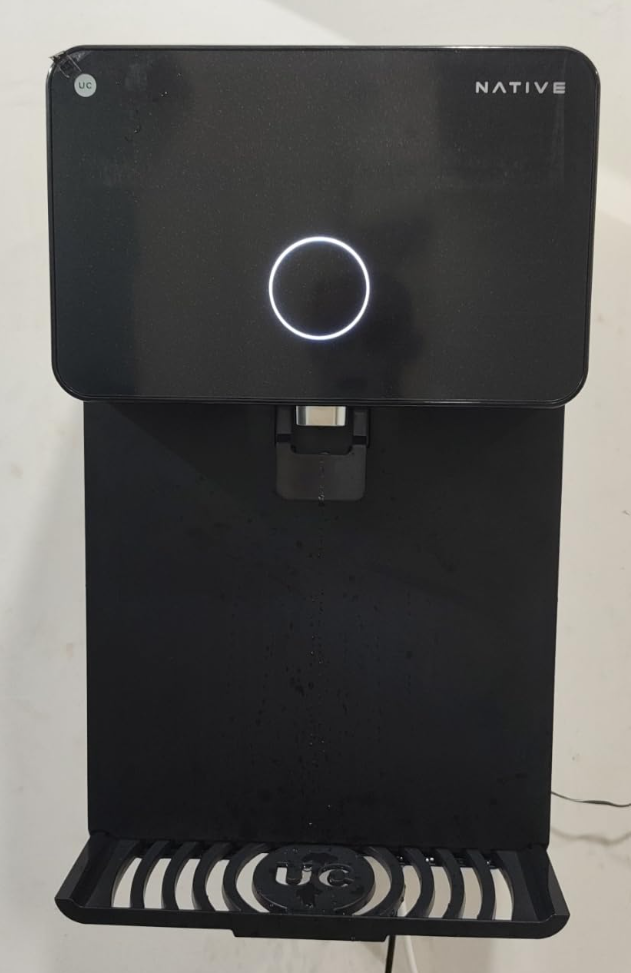water purifier: (26, 26, 605, 954)
